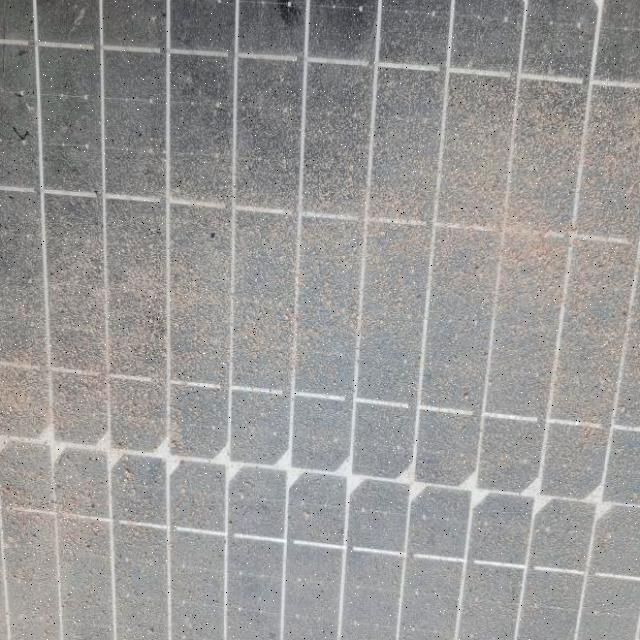Surface Contaminant: (1, 4, 467, 570)
